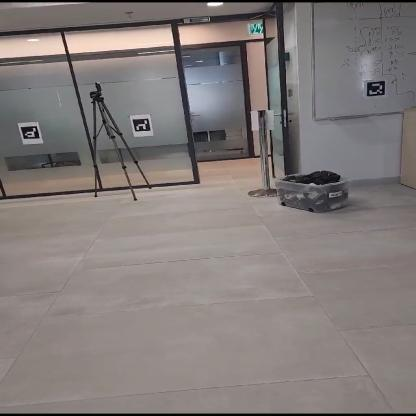open: (186, 39, 262, 192)
